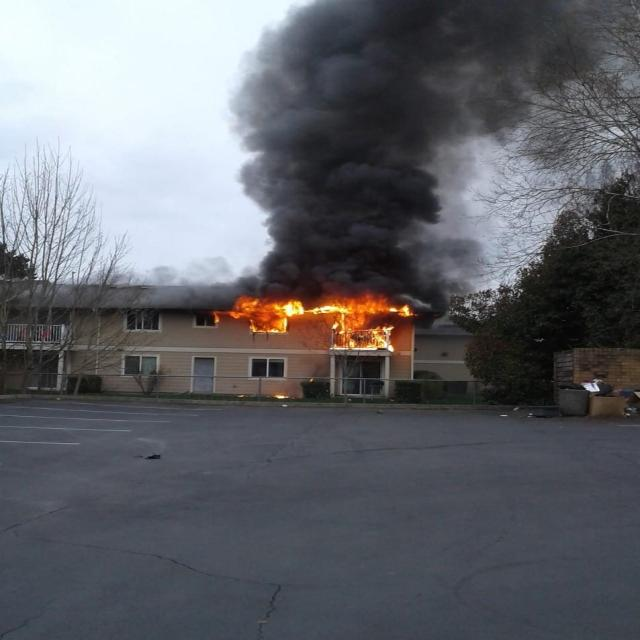Fire: (207, 287, 452, 354)
